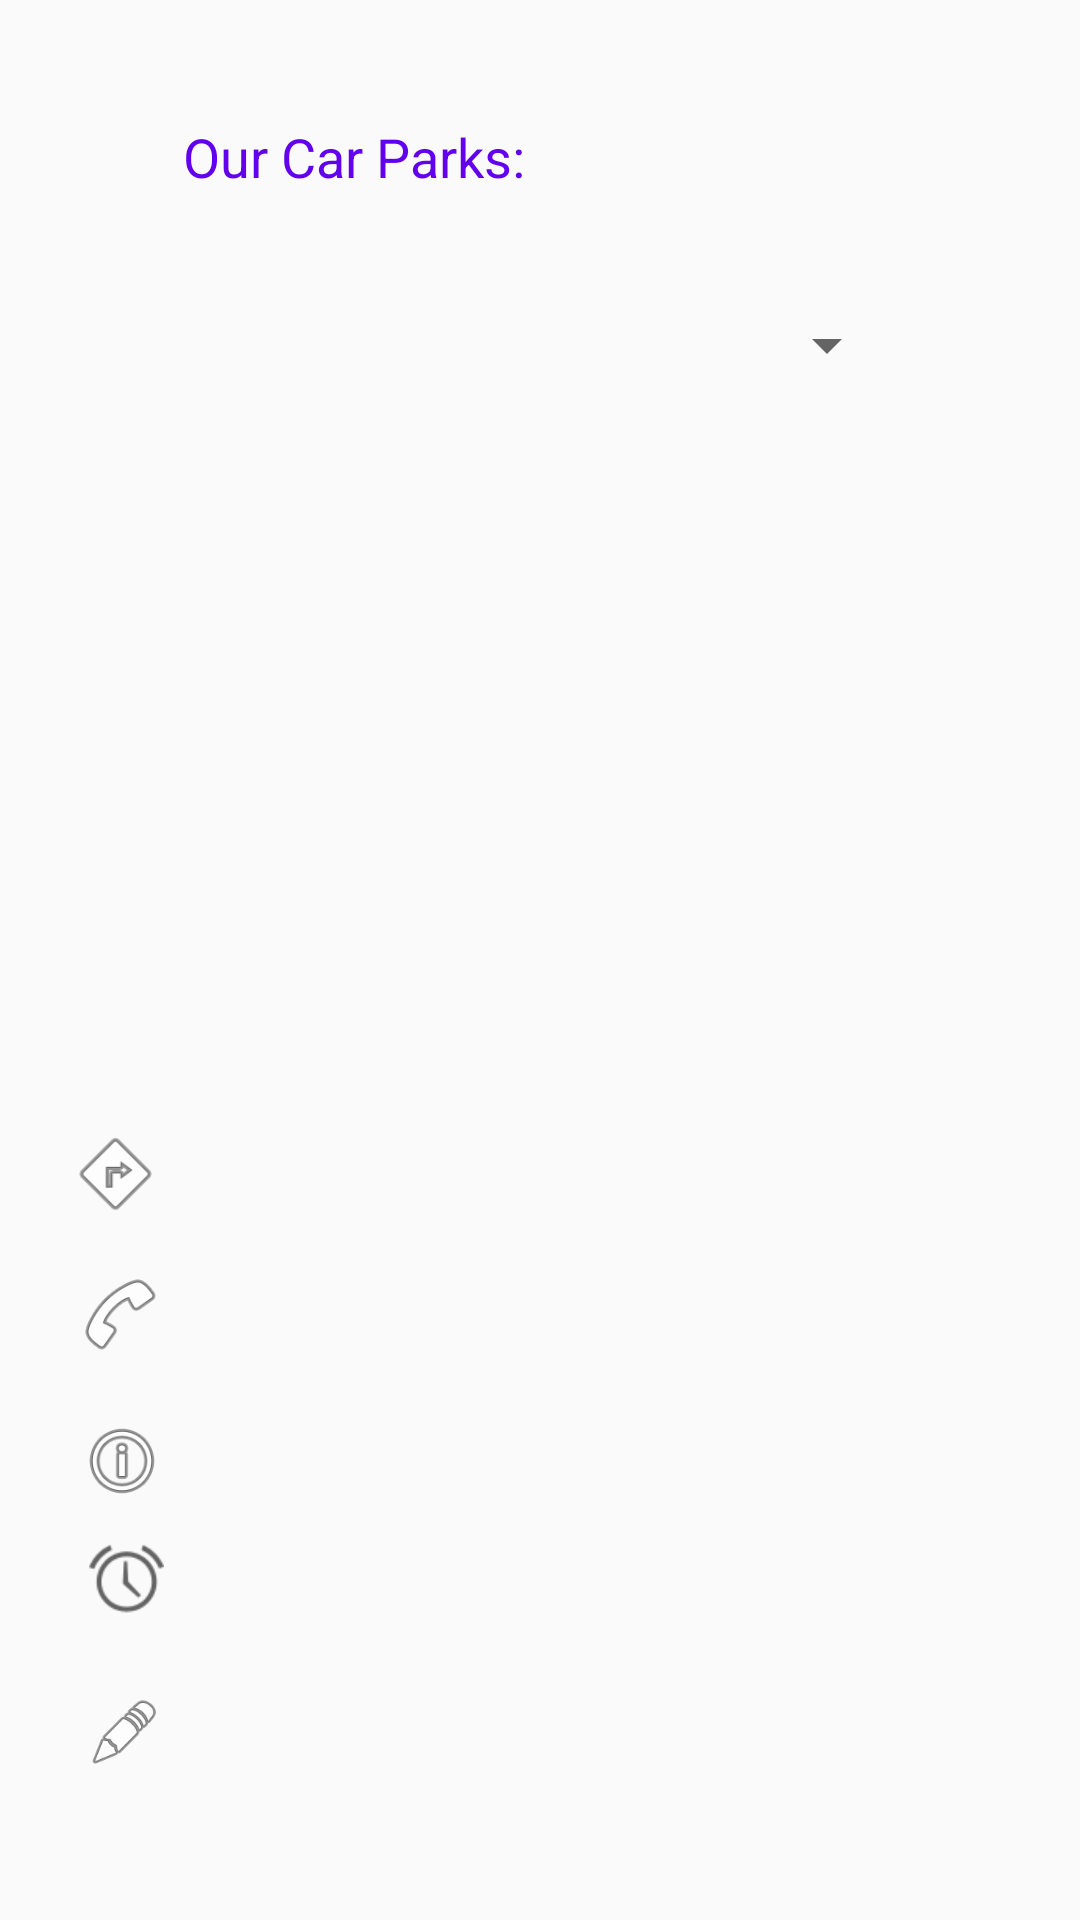

Icons on this 1080 x 1920 Android screen, each with its box as bbox=(x1, y1, x2, y2):
call: bbox=(85, 1279, 156, 1350)
directions: bbox=(79, 1138, 152, 1210)
edit: bbox=(92, 1700, 156, 1764)
info details: bbox=(89, 1429, 155, 1494)
lock idle alarm: bbox=(89, 1545, 164, 1613)
